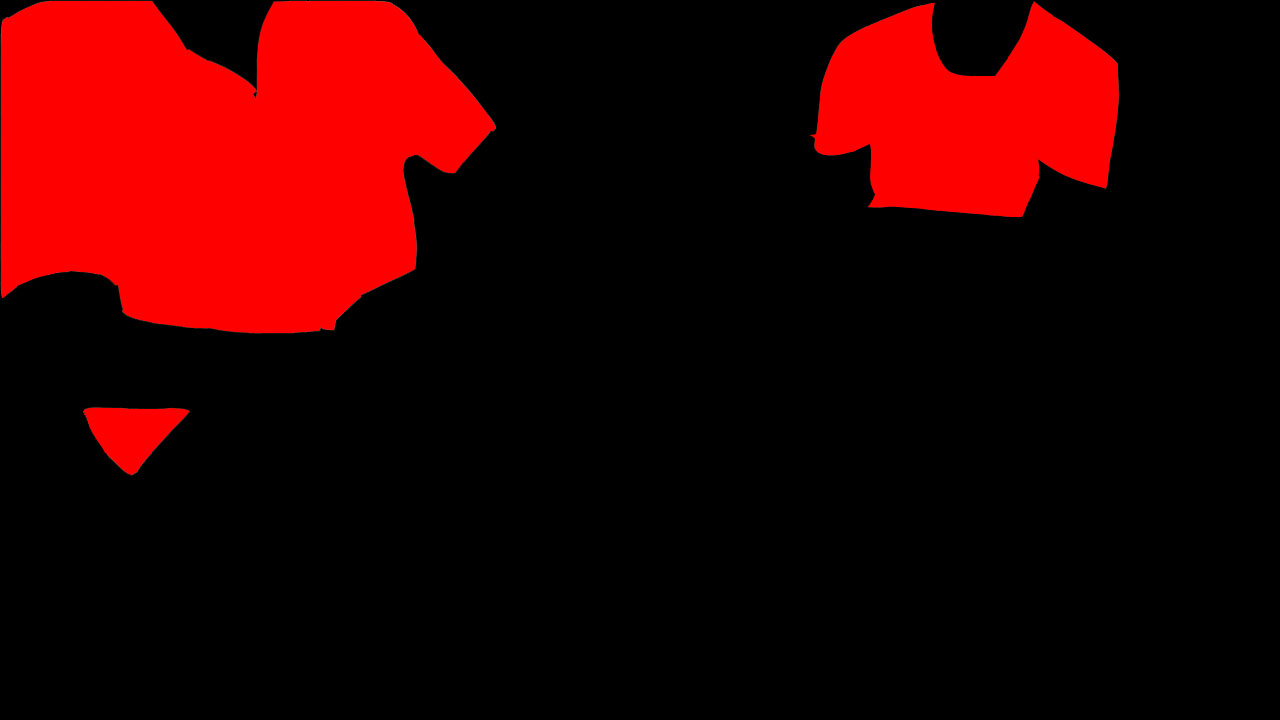uniforme_ifmt: (3, 6, 498, 475), (811, 4, 1127, 226)
